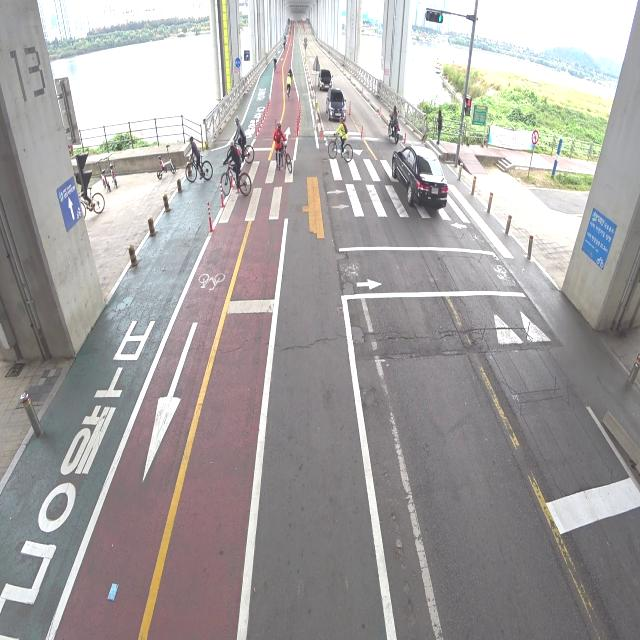Car: (389, 134, 451, 224), (326, 87, 350, 123), (317, 59, 335, 93)
Motorcycle: (388, 104, 402, 144)
